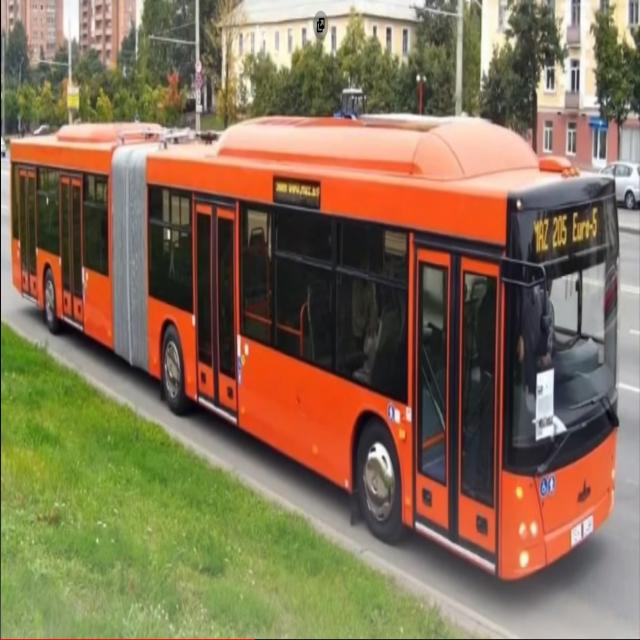bus: (9, 96, 640, 583)
